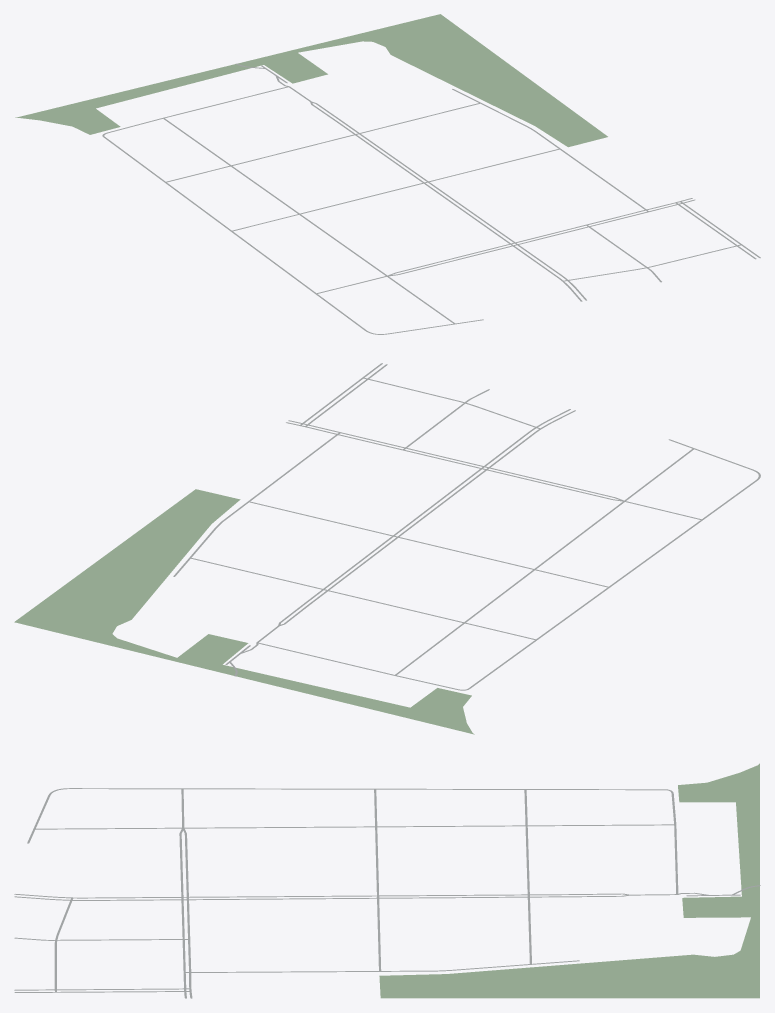
The model's file is -20_31-known-coarse.glb.
3 views of the same model, one above another, from view 1: azimuth 30°, elevation 25°; view 2: azimuth 150°, elevation 25°; view 3: azimuth 270°, elevation 25° (orthographic). The views are drawn at different scales.
Bounding box in the file's own units: 744 × 0.1 × 998.
